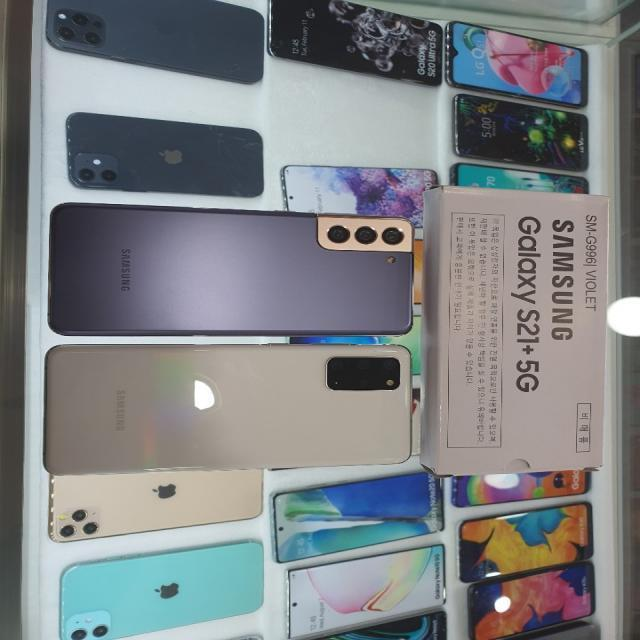phone: (50, 201, 413, 332), (49, 343, 414, 471)
